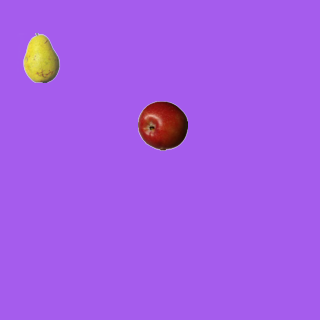Apple Braeburn: (137, 100, 187, 150)
Pear Monster: (16, 32, 66, 82)
